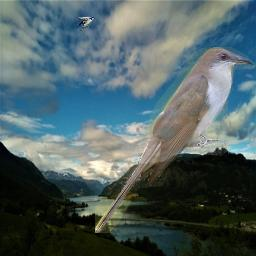Cuckoo: (95, 47, 255, 233)
Swallow: (75, 16, 95, 31)
